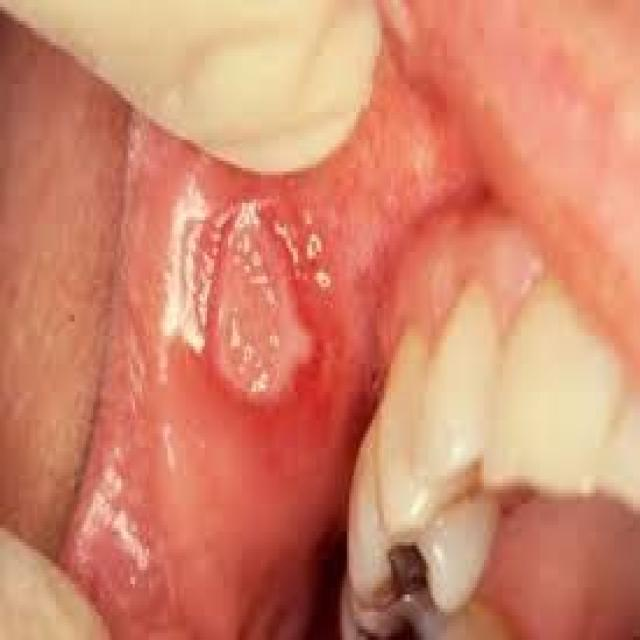processing_area: (53, 3, 638, 637)
ulcer-detection: (160, 179, 350, 458)
